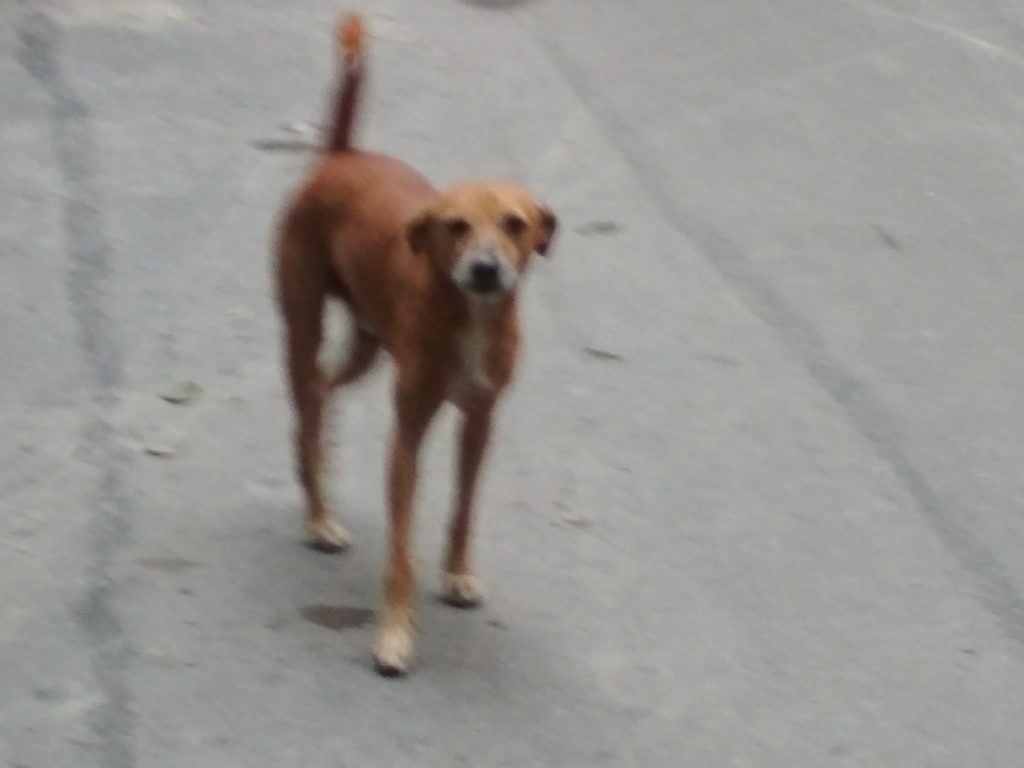dog: (274, 6, 563, 675)
